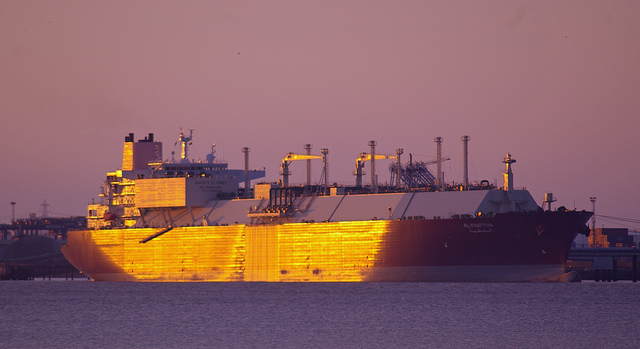LNG_ship: (54, 123, 591, 282)
